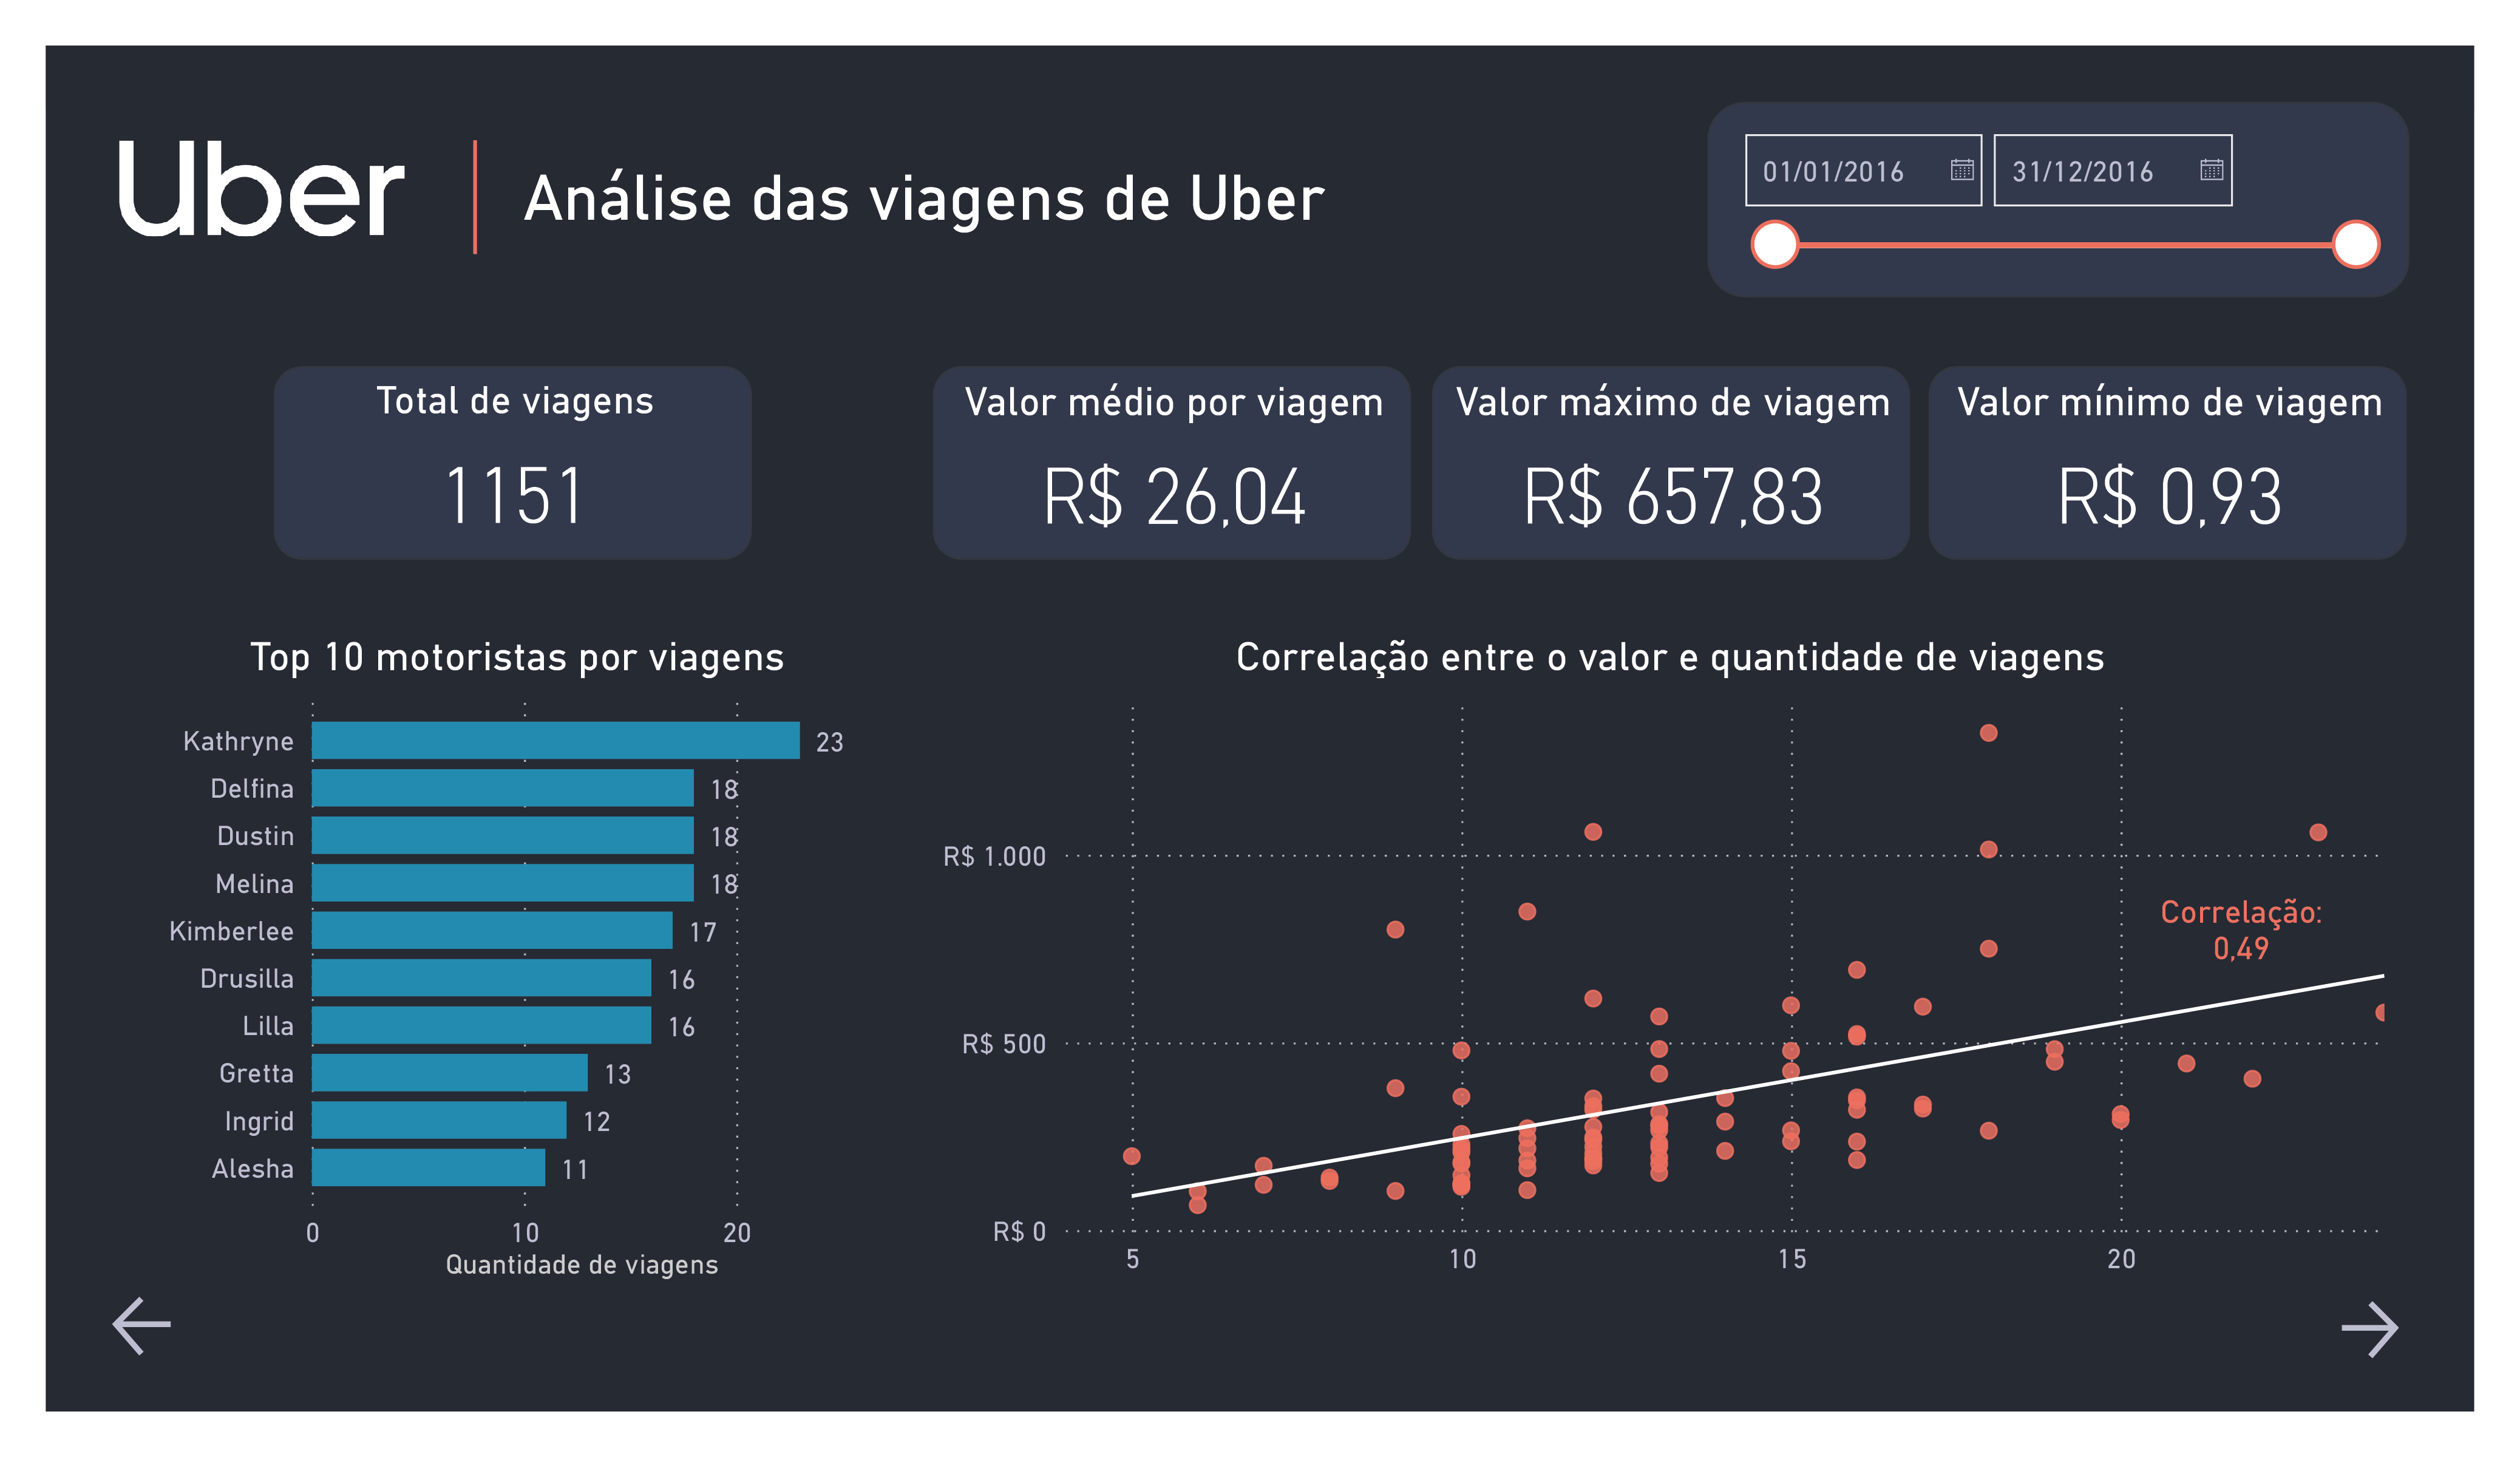

This screenshot's page, from the dashboard's own definition file:
{"tool":"powerbi","page":{"name":"Viagem","canvas":[1280,720],"ordinal":4},"visuals":[{"type":"card","title":"Total de viagens","fields":{"Values":["Dataset Uber 2016.# QUANTIDADE DE VIAGENS"]},"box":[120.3,169.3,252.4,102.4],"z":0},{"type":"card","title":"Valor máximo de viagem","fields":{"Values":["Max(Dataset Uber 2016.VALOR)"]},"box":[730.9,168.9,252.4,102.4],"z":1000},{"type":"card","title":"Valor mínimo de viagem","fields":{"Values":["Min(Dataset Uber 2016.VALOR)"]},"box":[993.1,168.9,252.4,102.4],"z":2000},{"type":"card","title":"Valor médio por viagem","fields":{"Values":["Dataset Uber 2016.# VALOR / VIAGENS"]},"box":[468,168.9,252.4,102.4],"z":3000},{"type":"textbox","box":[246.2,56.5,597.9,54],"z":4000},{"type":"shape","box":[212.3,50.2,28.9,60.3],"z":5000},{"type":"image","box":[15.1,30.1,197.2,94.2],"z":6000},{"type":"actionButton","box":[1204.8,656.4,40.8,39.6],"z":7000},{"type":"scatterChart","title":"Correlação entre o valor e quantidade de viagens","fields":{"Category":["Drivers.ID_MOTORISTA"],"X":["Dataset Uber 2016.# QUANTIDADE DE VIAGENS"],"Y":["Sum(Dataset Uber 2016.VALOR)"]},"box":[467.9,309.6,777.5,346.5],"z":8000},{"type":"clusteredBarChart","title":"Top 10 motoristas por viagens","fields":{"Category":["Drivers.NOME"],"Y":["Dataset Uber 2016.# QUANTIDADE DE VIAGENS"]},"box":[57.9,309.9,380.3,345.9],"z":9000},{"type":"textbox","box":[1070.4,441.7,175,51.2],"z":10000},{"type":"actionButton","box":[31.3,654.3,43.8,40.7],"z":11000},{"type":"slicer","fields":{"Values":["Dataset Uber 2016.INÍCIO_VIAGEM"]},"box":[876,29.2,369.9,103.2],"z":12000}]}

Visuals, with their boxes on the page's 1280x720 design canvas (x1, y1, x2, y2). These are canvas units, not pixel positions in the 2520x1457 screenshot, which may show the page scaled, cropped or inside an application window:
"Total de viagens" card: {"x1": 120, "y1": 169, "x2": 373, "y2": 272}
"Valor máximo de viagem" card: {"x1": 731, "y1": 169, "x2": 983, "y2": 271}
"Valor mínimo de viagem" card: {"x1": 993, "y1": 169, "x2": 1246, "y2": 271}
"Valor médio por viagem" card: {"x1": 468, "y1": 169, "x2": 720, "y2": 271}
textbox: {"x1": 246, "y1": 56, "x2": 844, "y2": 110}
shape: {"x1": 212, "y1": 50, "x2": 241, "y2": 110}
image: {"x1": 15, "y1": 30, "x2": 212, "y2": 124}
actionButton: {"x1": 1205, "y1": 656, "x2": 1246, "y2": 696}
"Correlação entre o valor e quantidade de viagens" scatterChart: {"x1": 468, "y1": 310, "x2": 1245, "y2": 656}
"Top 10 motoristas por viagens" clusteredBarChart: {"x1": 58, "y1": 310, "x2": 438, "y2": 656}
textbox: {"x1": 1070, "y1": 442, "x2": 1245, "y2": 493}
actionButton: {"x1": 31, "y1": 654, "x2": 75, "y2": 695}
slicer - Dataset Uber 2016.INÍCIO_VIAGEM: {"x1": 876, "y1": 29, "x2": 1246, "y2": 132}
